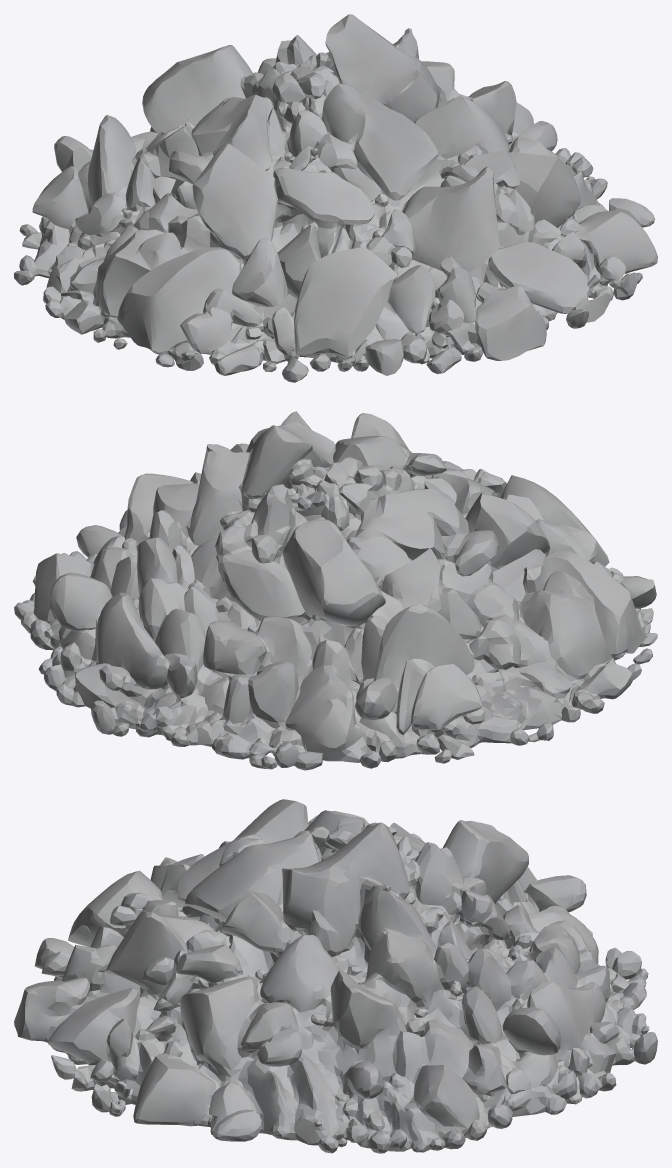
Rendered from lod_basic_pbr.fbx.
The picture shows the model from 3 angles, top to bottom: view 1: azimuth 30°, elevation 25°; view 2: azimuth 150°, elevation 25°; view 3: azimuth 270°, elevation 25°; orthographic projection.
Visible parts, largest first — view 1: model_LOD0; view 2: model_LOD0; view 3: model_LOD0.
Part boxes in pixels (x1=…): model_LOD0: x1=14, y1=14, x2=657, y2=382; model_LOD0: x1=14, y1=411, x2=657, y2=770; model_LOD0: x1=14, y1=799, x2=657, y2=1153.
Size of what is drawn, in the model's own units: 190 by 71.58 by 189.
1 material, 1 textured.
